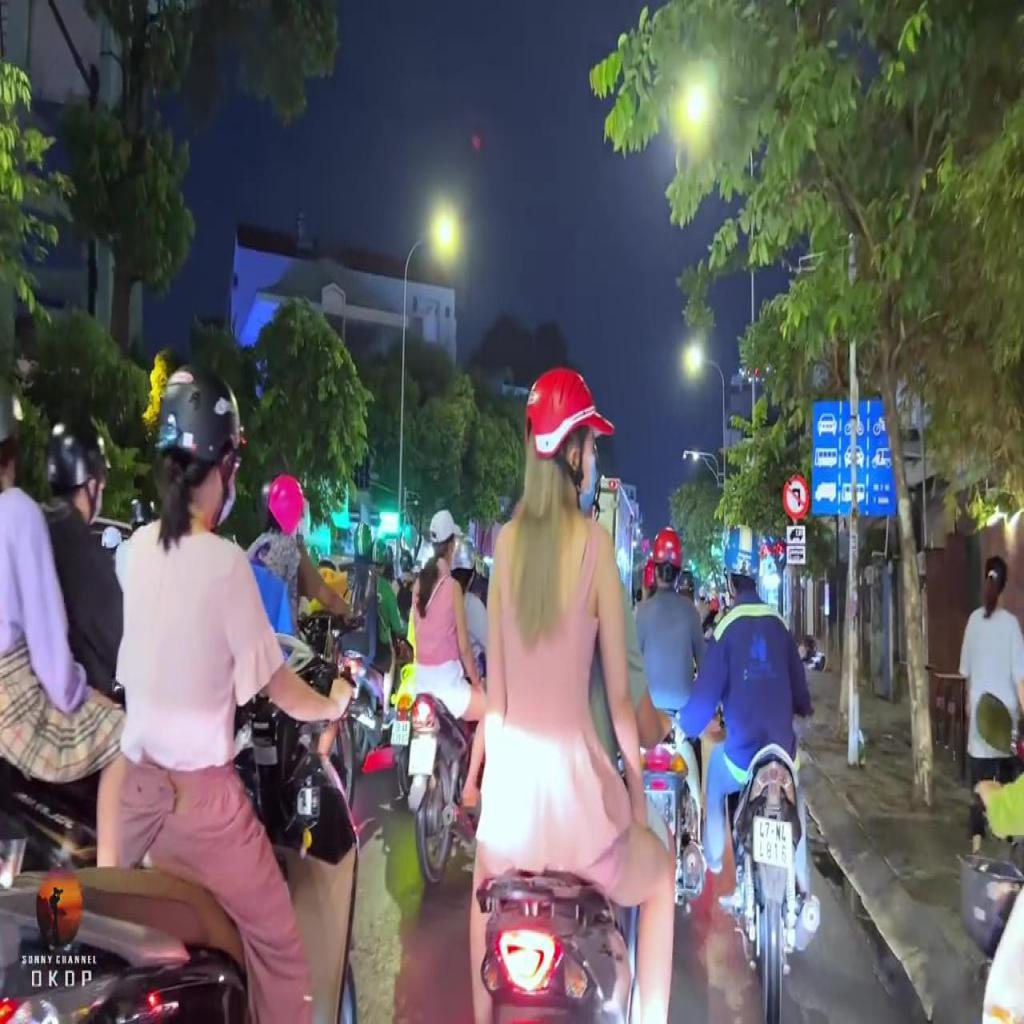cam_re_trai: (782, 472, 810, 522)
khac: (786, 523, 806, 545), (786, 546, 806, 566)
lan_duong_cho_tung_xe_theo_vach_ke_duong: (811, 401, 897, 518)
